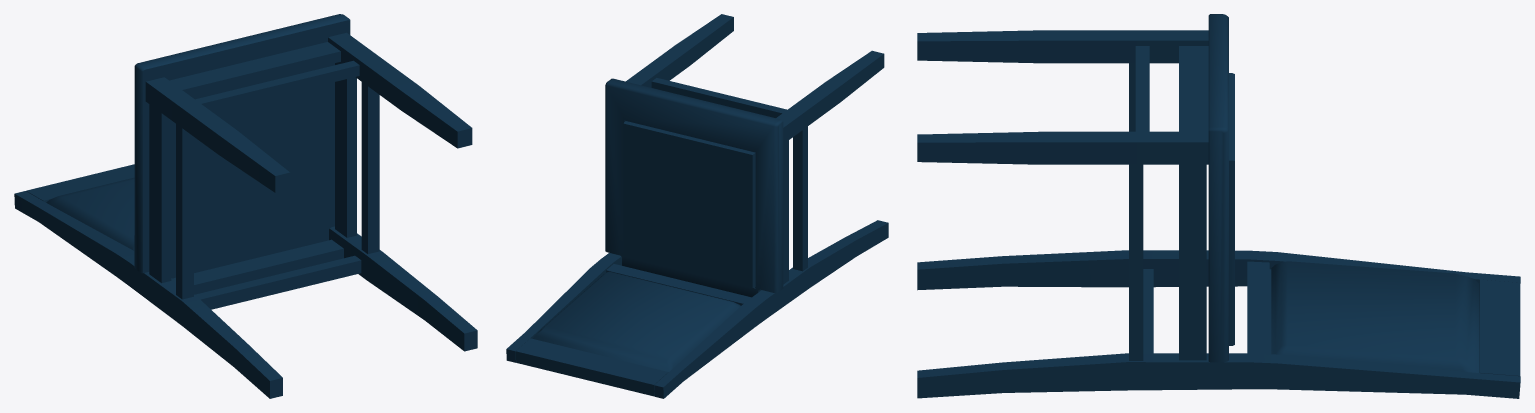
File: SM_Old_Chair_01.FBX
3 renders of one model, left to right at view 1: azimuth 30°, elevation 25°; view 2: azimuth 150°, elevation 25°; view 3: azimuth 270°, elevation 25°, orthographic. The views are drawn at different scales.
Parts seen in each view (by area): view 1: Object424; view 2: Object424; view 3: Object424.
Boxes of the visible parts, left/top/right/bottom form: Object424: left=14, top=14, right=477, bottom=398; Object424: left=506, top=14, right=888, bottom=398; Object424: left=917, top=14, right=1520, bottom=398.
Bounding box in the file's own units: 60.7 × 66.83 × 133.
